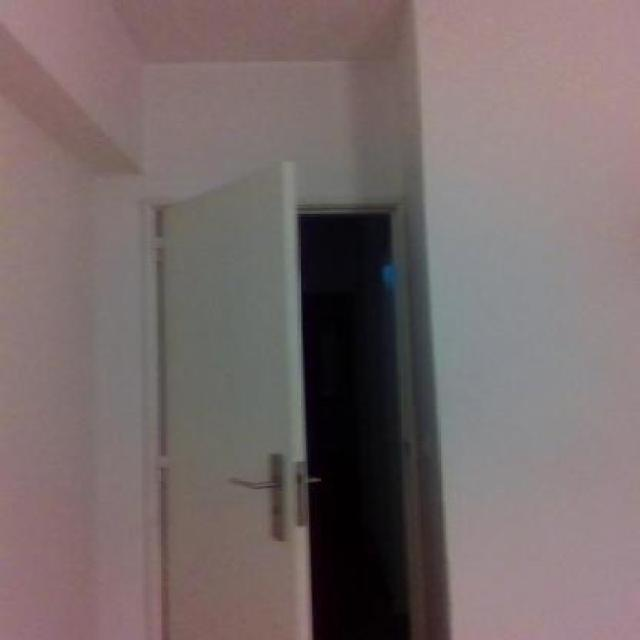door_handle: (221, 469, 284, 498)
